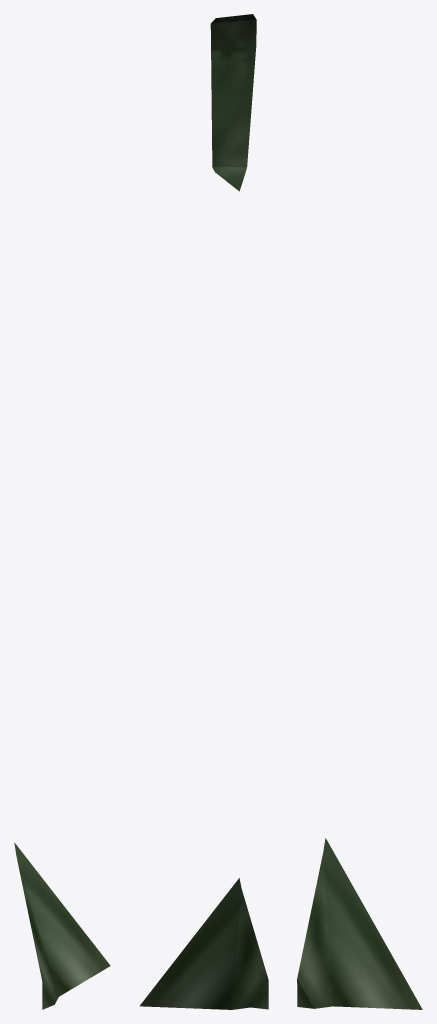
3 renders of one model, left to right at view 1: azimuth 30°, elevation 25°; view 2: azimuth 150°, elevation 25°; view 3: azimuth 330°, elevation 25°, orthographic. The views are drawn at different scales.
Bounding box in the file's own units: 0.3072 × 2.95 × 0.1553.
Materials: 1 (1 with a texture image).
